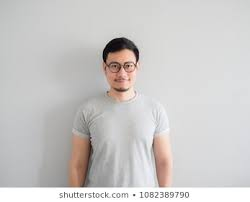asian_male: (95, 31, 150, 101)
